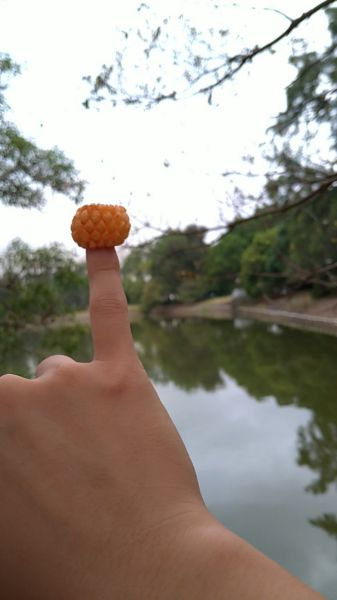eggs: (70, 203, 130, 248)
